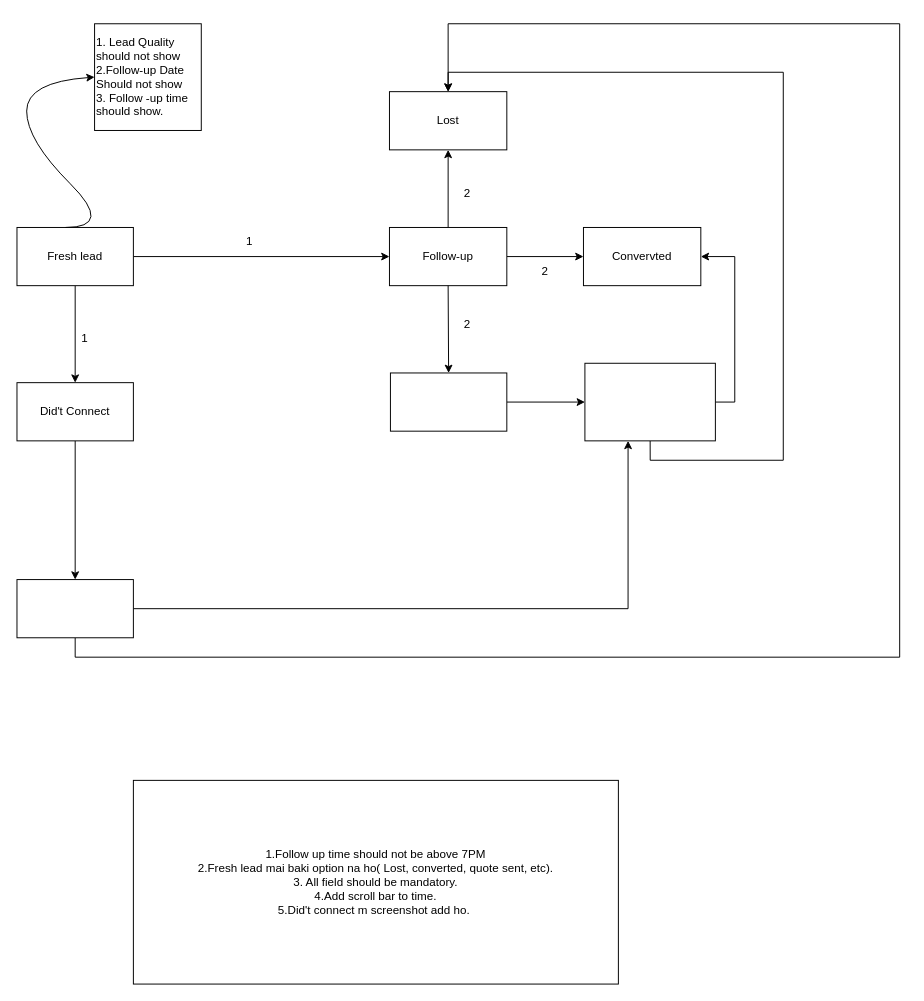
This 924x1001 diagram has some shape labels left out. The box of each missing label's shape, as (x1, y1, x2, y2) in pixels:
1.cold (7 days) 2.Warm (5-6 days) 3.Hot (3-4 days) 4.Strong Hot (1-2 days: (584, 362, 715, 441)
Follow-up Same day after 2 or 3 hour: (16, 579, 133, 638)
Follow-up(first call done/quote sent): (389, 372, 507, 431)
